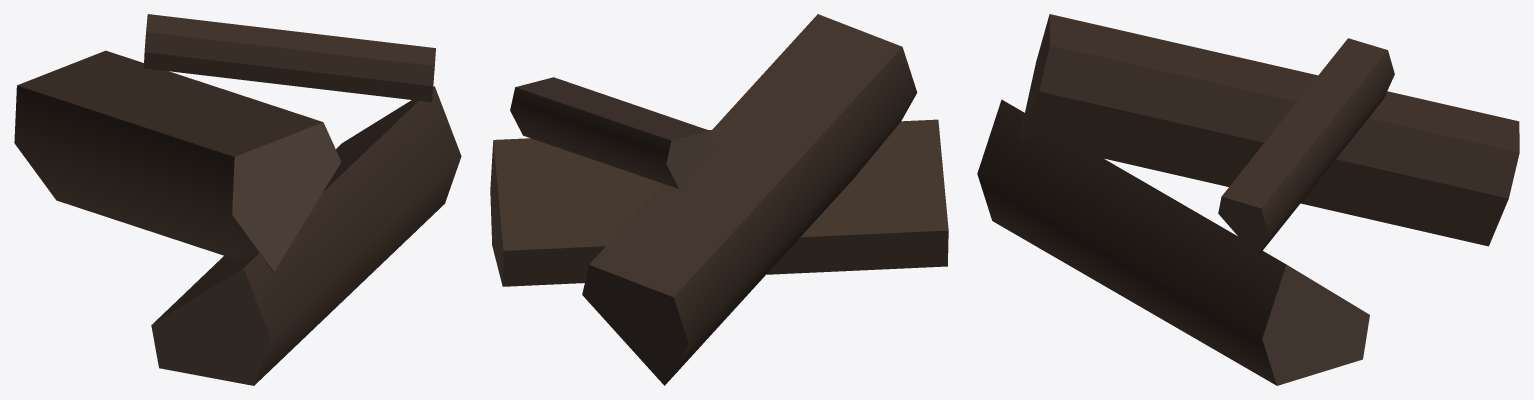
File: PROP_CampfireBase.fbx
The picture shows the model from 3 angles, left to right: view 1: azimuth 30°, elevation 25°; view 2: azimuth 150°, elevation 25°; view 3: azimuth 270°, elevation 25°; orthographic projection. The views are drawn at different scales.
Parts seen in each view (by area): view 1: PROP_CampfireBase; view 2: PROP_CampfireBase; view 3: PROP_CampfireBase.
Boxes of the visible parts, x1,y1,x2,y2 form: PROP_CampfireBase: [14, 14, 461, 385]; PROP_CampfireBase: [490, 14, 948, 385]; PROP_CampfireBase: [977, 14, 1519, 385].
Size of the model in its own units: 409 by 219 by 473.
